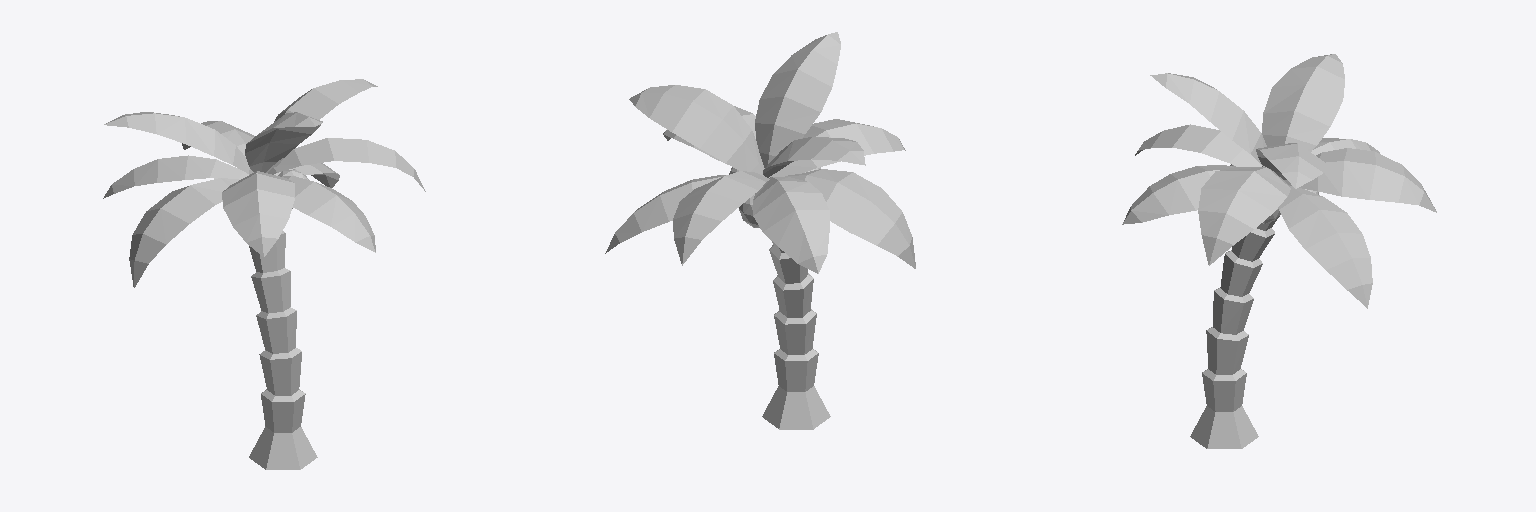
Rendered from Tree_Palm_1.obj.
3 views of the same model, side by side, from view 1: azimuth 30°, elevation 25°; view 2: azimuth 150°, elevation 25°; view 3: azimuth 270°, elevation 25° (orthographic).
Parts seen in each view (by area): view 1: Cylinder.074_Cylinder.076, Cube.081_Cube.146, Cube.088_Cube.153, Cube.080_Cube.145, Cube.079_Cube.144, Cube.084_Cube.149, Cube.085_Cube.150, Cube.086_Cube.151, Cube.087_Cube.152, Cube.083_Cube.148, Cube.082_Cube.147; view 2: Cylinder.074_Cylinder.076, Cube.086_Cube.151, Cube.087_Cube.152, Cube.088_Cube.153, Cube.085_Cube.150, Cube.083_Cube.148, Cube.081_Cube.146, Cube.082_Cube.147, Cube.080_Cube.145; view 3: Cylinder.074_Cylinder.076, Cube.080_Cube.145, Cube.082_Cube.147, Cube.084_Cube.149, Cube.083_Cube.148, Cube.086_Cube.151, Cube.079_Cube.144, Cube.081_Cube.146, Cube.087_Cube.152, Cube.085_Cube.150.
Part boxes in pixels (bbox=[...]): Cylinder.074_Cylinder.076: bbox=[249, 231, 317, 469]; Cube.081_Cube.146: bbox=[222, 171, 294, 256]; Cube.088_Cube.153: bbox=[129, 178, 238, 287]; Cube.080_Cube.145: bbox=[104, 112, 253, 174]; Cube.079_Cube.144: bbox=[283, 176, 375, 252]; Cube.084_Cube.149: bbox=[268, 138, 425, 191]; Cube.085_Cube.150: bbox=[103, 155, 248, 198]; Cube.086_Cube.151: bbox=[245, 112, 322, 172]; Cube.087_Cube.152: bbox=[266, 79, 377, 172]; Cube.083_Cube.148: bbox=[182, 121, 254, 156]; Cube.082_Cube.147: bbox=[274, 163, 339, 187]; Cylinder.074_Cylinder.076: bbox=[762, 177, 830, 429]; Cube.086_Cube.151: bbox=[755, 32, 840, 167]; Cube.087_Cube.152: bbox=[629, 85, 764, 176]; Cube.088_Cube.153: bbox=[785, 169, 915, 268]; Cube.085_Cube.150: bbox=[753, 177, 829, 273]; Cube.083_Cube.148: bbox=[673, 171, 769, 265]; Cube.081_Cube.146: bbox=[770, 119, 905, 176]; Cube.082_Cube.147: bbox=[605, 175, 725, 253]; Cube.080_Cube.145: bbox=[763, 137, 865, 177]; Cylinder.074_Cylinder.076: bbox=[1190, 216, 1279, 448]; Cube.080_Cube.145: bbox=[1262, 54, 1344, 151]; Cube.082_Cube.147: bbox=[1278, 185, 1372, 308]; Cube.084_Cube.149: bbox=[1198, 167, 1290, 265]; Cube.083_Cube.148: bbox=[1284, 148, 1436, 212]; Cube.086_Cube.151: bbox=[1150, 73, 1266, 166]; Cube.079_Cube.144: bbox=[1122, 165, 1233, 224]; Cube.081_Cube.146: bbox=[1135, 124, 1261, 166]; Cube.087_Cube.152: bbox=[1256, 143, 1329, 188]; Cube.085_Cube.150: bbox=[1311, 138, 1379, 155].
Bounding box in the file's own units: 2.1 × 2.68 × 2.12.